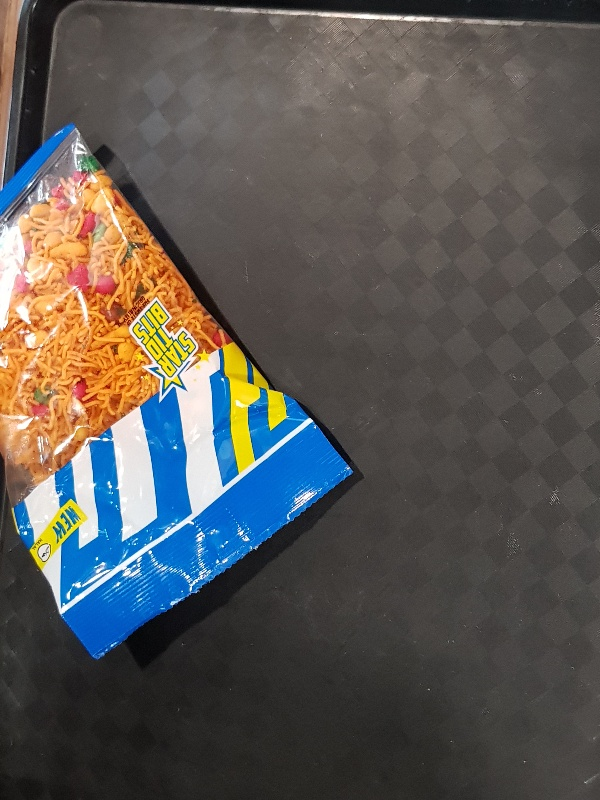Star Tidbits Mixer: (1, 121, 356, 661)
